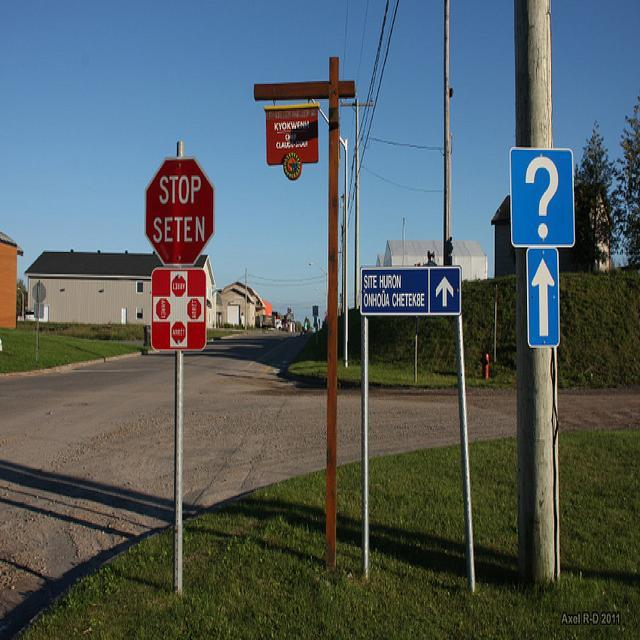fire_hydrant: (481, 350, 490, 378)
